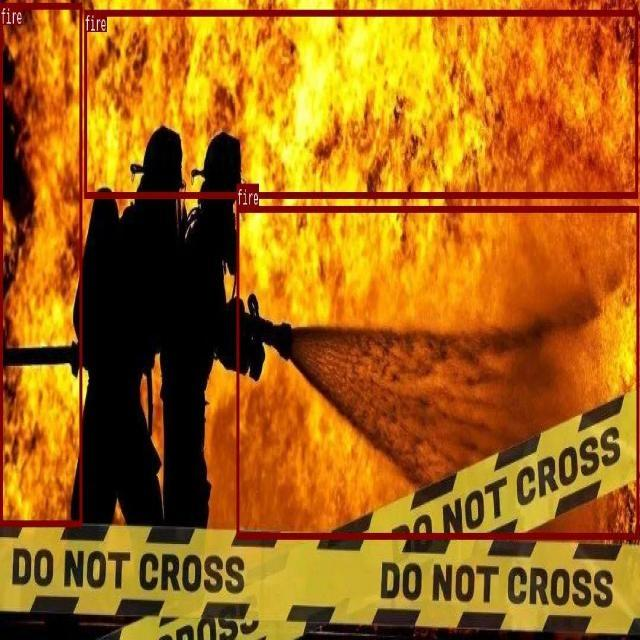fire: (237, 206, 639, 538), (84, 9, 637, 197), (0, 2, 82, 525)
